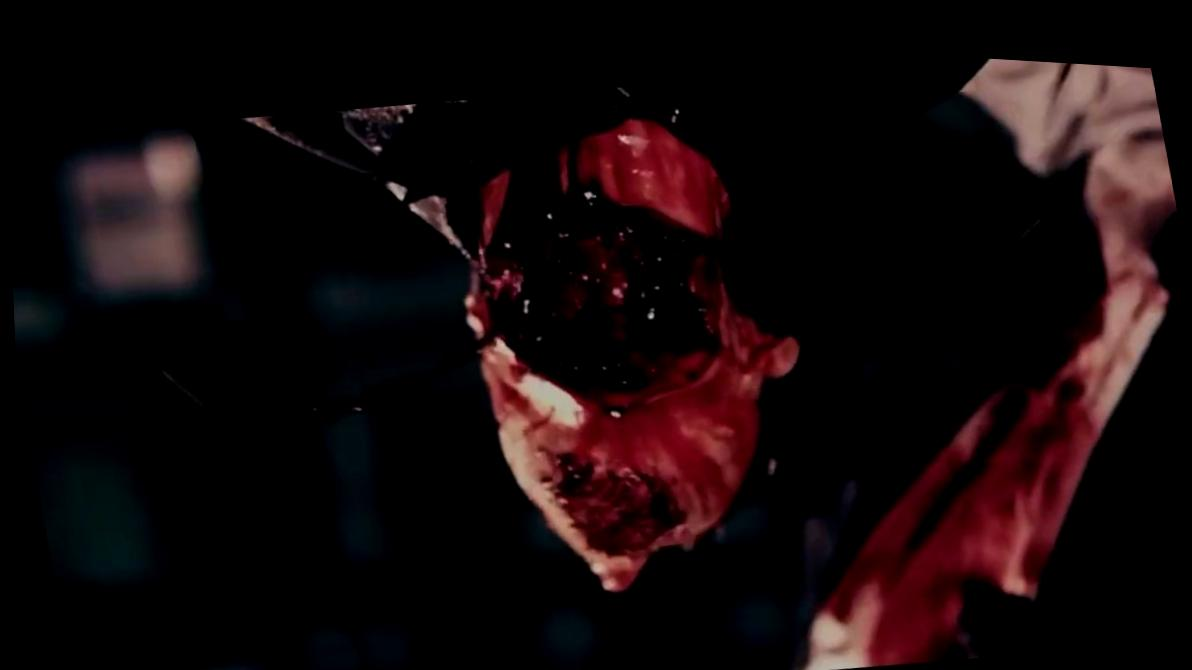Fire: (813, 113, 1176, 653), (407, 108, 794, 584)
